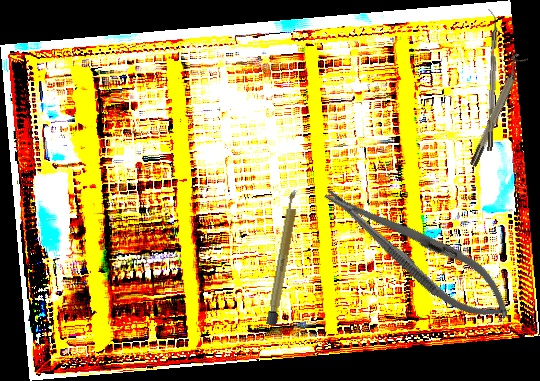Chopper: (480, 8, 500, 152)
Fixation Ring: (463, 52, 529, 168)
Needle Holder: (312, 169, 523, 336)
Scalpel Handle: (266, 189, 301, 326)
